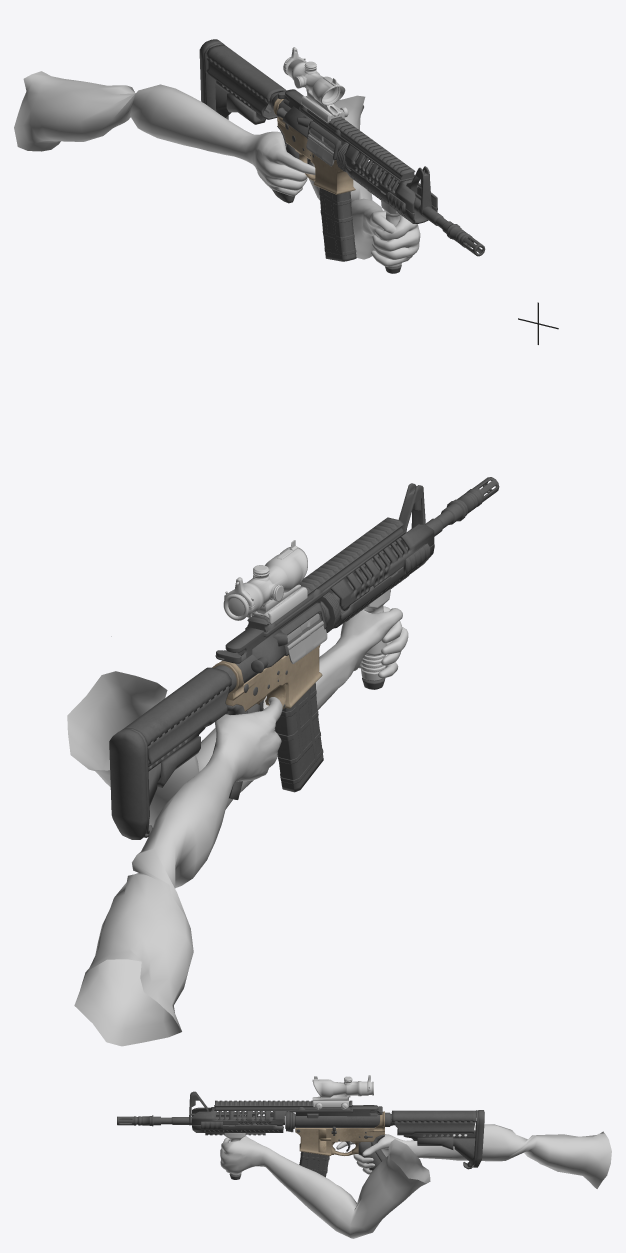
File: M4A1 Navy Seal.obj
The picture shows the model from 3 angles, top to bottom: view 1: azimuth 30°, elevation 25°; view 2: azimuth 150°, elevation 25°; view 3: azimuth 270°, elevation 25°; orthographic projection. The views are drawn at different scales.
Parts seen in each view (by area): view 1: Base_Male_Mesh.001_Plane05.002, M4A1_Body_Circle.003, Cylinder.005_Cylinder.021, M4A1_Body.002_Circle.005, M4A1_Body.001_Circle.000; view 2: Base_Male_Mesh.001_Plane05.002, M4A1_Body_Circle.003, Cylinder.005_Cylinder.021, M4A1_Body.002_Circle.005, M4A1_Body.001_Circle.000; view 3: Base_Male_Mesh.001_Plane05.002, M4A1_Body_Circle.003, Cylinder.005_Cylinder.021, M4A1_Body.002_Circle.005.
Part boxes in pixels (bbox=[...]): Base_Male_Mesh.001_Plane05.002: bbox=[14, 71, 420, 266]; M4A1_Body_Circle.003: bbox=[199, 39, 485, 256]; Cylinder.005_Cylinder.021: bbox=[283, 47, 348, 123]; M4A1_Body.002_Circle.005: bbox=[319, 187, 356, 261]; M4A1_Body.001_Circle.000: bbox=[381, 200, 401, 273]; Base_Male_Mesh.001_Plane05.002: bbox=[67, 606, 408, 1046]; M4A1_Body_Circle.003: bbox=[109, 477, 499, 839]; Cylinder.005_Cylinder.021: bbox=[223, 540, 307, 624]; M4A1_Body.002_Circle.005: bbox=[274, 683, 323, 792]; M4A1_Body.001_Circle.000: bbox=[360, 588, 390, 689]; Base_Male_Mesh.001_Plane05.002: bbox=[220, 1124, 611, 1238]; M4A1_Body_Circle.003: bbox=[117, 1091, 484, 1170]; Cylinder.005_Cylinder.021: bbox=[312, 1075, 373, 1109]; M4A1_Body.002_Circle.005: bbox=[299, 1151, 329, 1177].
Size of the model in its own units: 13.88 by 13.16 by 48.9.
